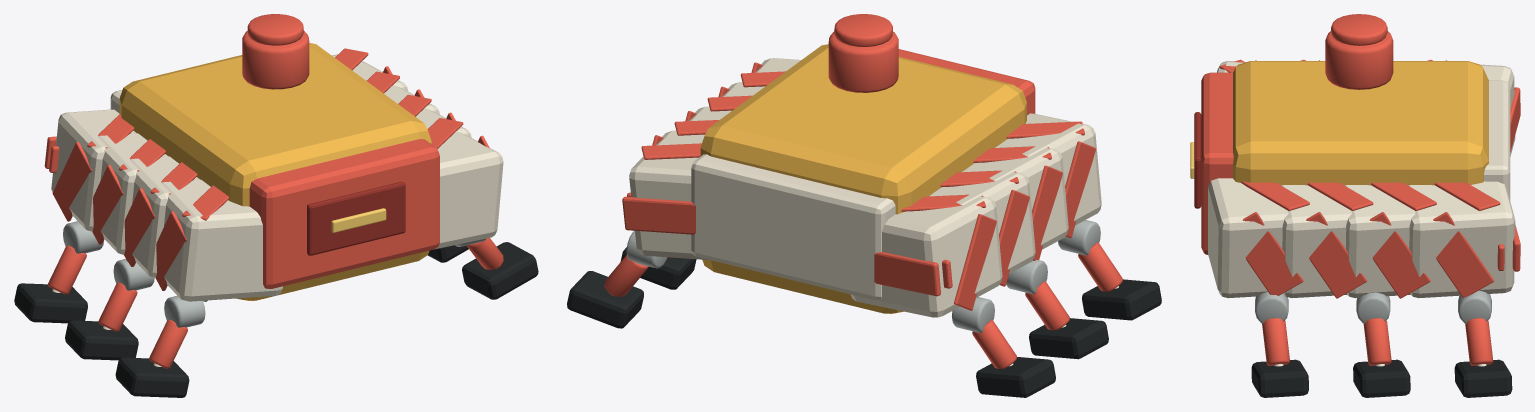
The model's file is b01_reverse_crab_formal.glb.
3 renders of one model, left to right at view 1: azimuth 30°, elevation 25°; view 2: azimuth 150°, elevation 25°; view 3: azimuth 270°, elevation 25°, orthographic. The views are drawn at different scales.
Parts seen in each view (by area): view 1: Crab_Core, Crab_Rear_Plate, Barricade_L_1, Barricade_R_1, Crab_Sign_Inset, Barricade_L_4, Crab_Beacon, Barricade_L_3, Barricade_L_2, Leg_R_1_Foot, Leg_L_1_Foot, Leg_L_2_Foot (+19 smaller); view 2: Crab_Core, Crab_Front_Plate, Barricade_L_4, Barricade_R_4, Crab_Beacon, Barricade_L_1, Barricade_L_2, Barricade_L_3, Leg_R_3_Foot, Leg_L_1_Foot, Leg_L_3_Foot, Leg_L_2_Foot (+23 smaller); view 3: Crab_Core, Barricade_R_4, Barricade_R_1, Barricade_R_2, Barricade_R_3, Crab_Rear_Plate, Crab_Beacon, Crab_Front_Plate, Barricade_R_4_SideSafetyBand, Barricade_R_3_SideSafetyBand, Barricade_R_2_SideSafetyBand, Barricade_R_1_SideSafetyBand (+18 smaller).
Part boxes in pixels (x1,y1,x2,y2): Crab_Core: (119, 43, 431, 300); Crab_Rear_Plate: (249, 139, 439, 288); Barricade_L_1: (161, 179, 282, 301); Barricade_R_1: (435, 131, 503, 249); Crab_Sign_Inset: (307, 181, 405, 255); Barricade_L_4: (51, 109, 136, 231); Crab_Beacon: (242, 30, 309, 89); Barricade_L_3: (98, 133, 167, 254); Barricade_L_2: (130, 156, 199, 278); Leg_R_1_Foot: (462, 242, 538, 299); Leg_L_1_Foot: (115, 357, 189, 397); Leg_L_2_Foot: (65, 320, 138, 360); Crab_Core: (700, 44, 1026, 313); Crab_Front_Plate: (691, 154, 895, 300); Barricade_L_4: (850, 196, 1002, 317); Barricade_R_4: (629, 130, 710, 260); Crab_Beacon: (828, 31, 898, 92); Barricade_L_1: (995, 113, 1101, 225); Barricade_L_2: (962, 148, 1068, 249); Barricade_L_3: (929, 172, 1035, 273); Leg_R_3_Foot: (567, 271, 643, 328); Leg_L_1_Foot: (1082, 279, 1161, 320); Leg_L_3_Foot: (976, 357, 1055, 397); Leg_L_2_Foot: (1029, 318, 1108, 359); Crab_Core: (1233, 61, 1488, 185); Barricade_R_4: (1408, 181, 1515, 297); Barricade_R_1: (1208, 178, 1288, 298); Barricade_R_2: (1281, 185, 1351, 297); Barricade_R_3: (1345, 185, 1415, 298); Crab_Rear_Plate: (1201, 72, 1233, 254); Crab_Beacon: (1325, 31, 1393, 89); Crab_Front_Plate: (1484, 80, 1510, 200); Barricade_R_4_SideSafetyBand: (1433, 212, 1494, 298); Barricade_R_3_SideSafetyBand: (1369, 212, 1430, 298); Barricade_R_2_SideSafetyBand: (1306, 212, 1366, 298); Barricade_R_1_SideSafetyBand: (1242, 212, 1303, 295).
Bounding box in the file's own units: 3.53 × 2.19 × 2.34.
